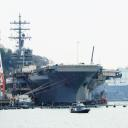Portanaves: (8, 13, 125, 105)
